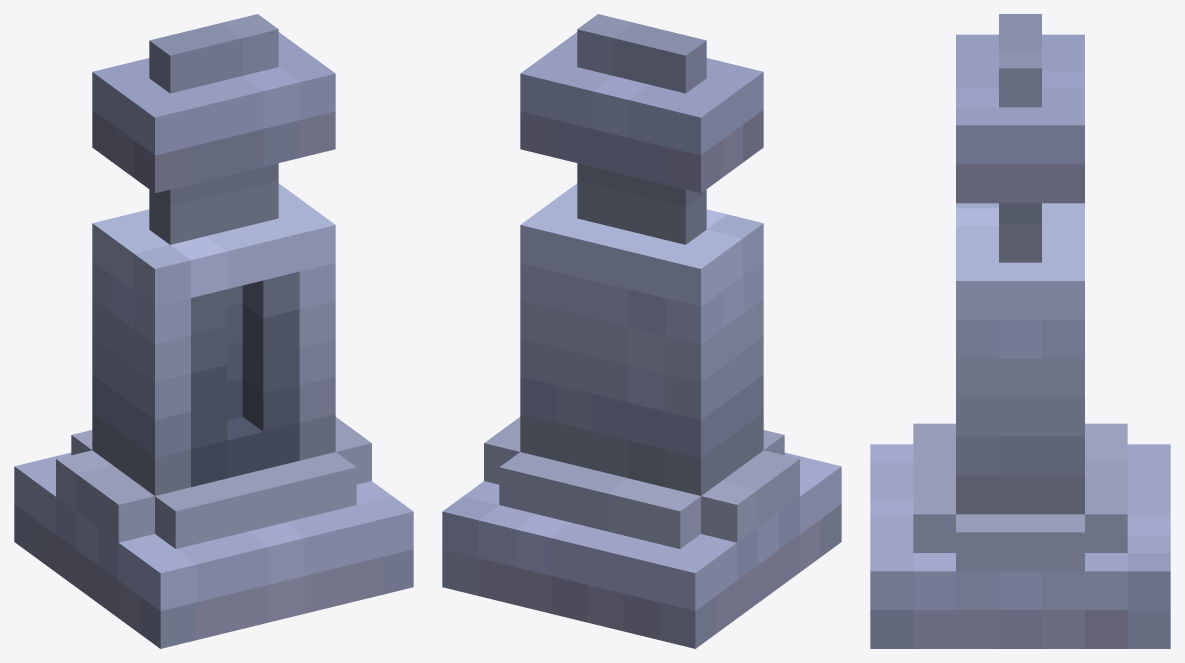
File: gravestone-cross.glb
3 renders of one model, left to right at view 1: azimuth 30°, elevation 25°; view 2: azimuth 150°, elevation 25°; view 3: azimuth 270°, elevation 25°, orthographic. The views are drawn at different scales.
Visible parts, largest first — view 1: gravestone-cross; view 2: gravestone-cross; view 3: gravestone-cross.
Boxes of the visible parts, left/top/right/bottom form: gravestone-cross: left=14, top=14, right=413, bottom=648; gravestone-cross: left=442, top=14, right=841, bottom=648; gravestone-cross: left=870, top=14, right=1170, bottom=648.
Bounding box in the file's own units: 0.4578 × 0.9156 × 0.4578.
1 material, 1 textured.
